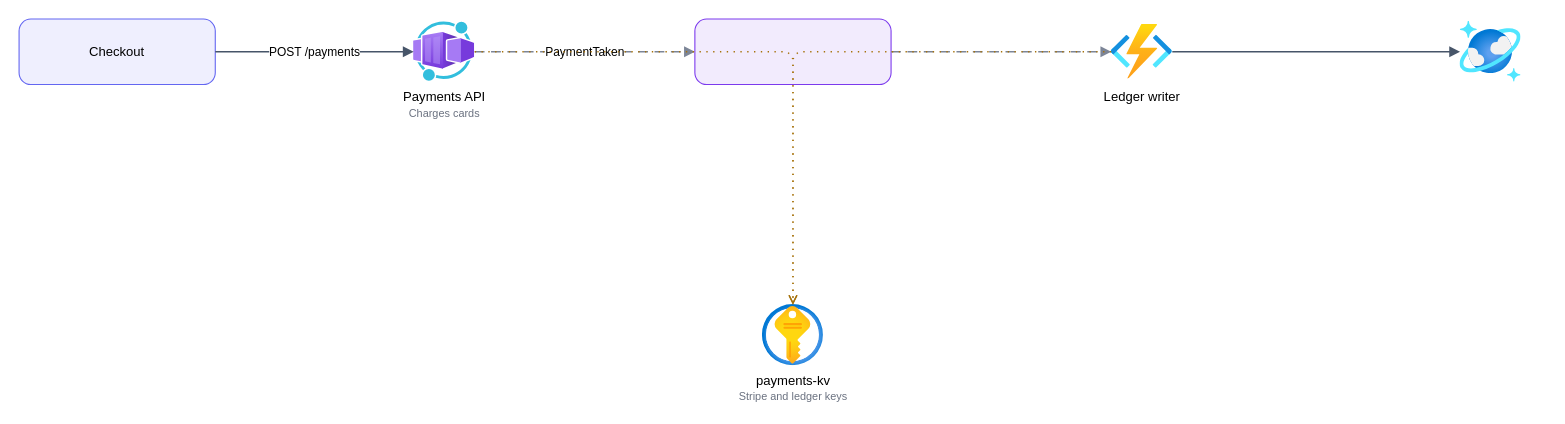
Some shapes in this 1565 by 424 pixel diagram are drawn without their labels. Here are the shapes that lost their labels. From the top down, the box of each, then its label:
(694, 18, 891, 84): payments.v1 Avro · key: orderId
(1460, 21, 1521, 82): Ledger One entry per payment
